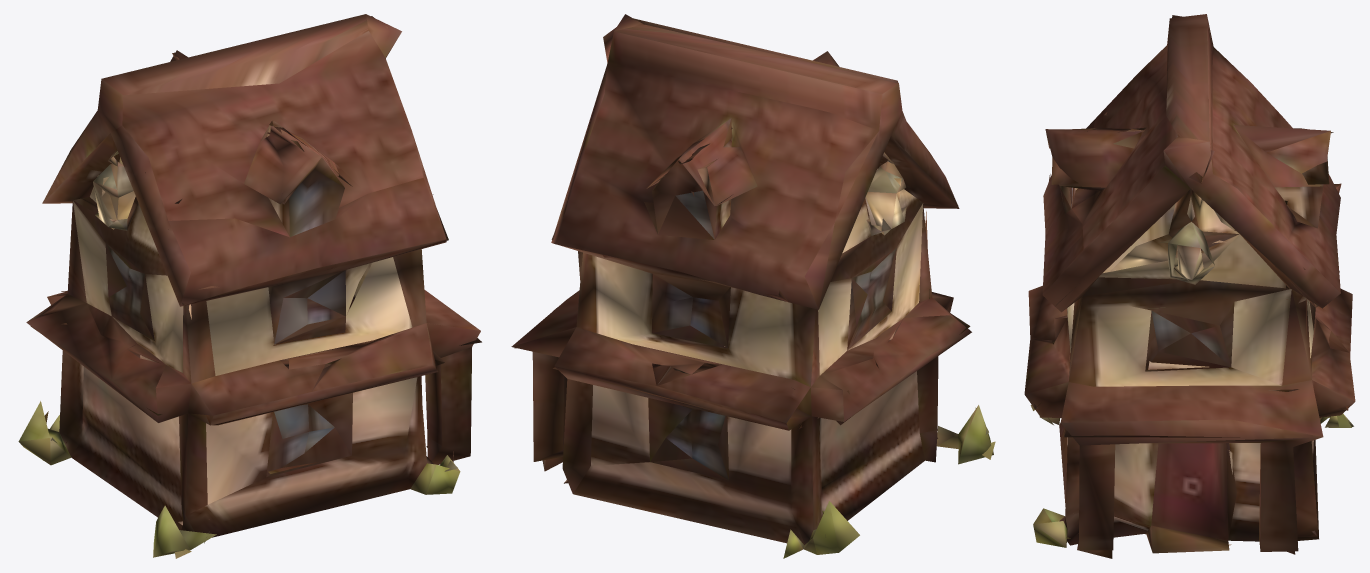
File: lg-village-inn.glb
The picture shows the model from 3 angles, left to right: view 1: azimuth 30°, elevation 25°; view 2: azimuth 150°, elevation 25°; view 3: azimuth 270°, elevation 25°; orthographic projection. The views are drawn at different scales.
Parts seen in each view (by area): view 1: geometry_0; view 2: geometry_0; view 3: geometry_0.
Part boxes in pixels (x1=…): geometry_0: x1=18, y1=14, x2=481, y2=558; geometry_0: x1=511, y1=14, x2=995, y2=558; geometry_0: x1=1024, y1=14, x2=1355, y2=558.
Size of the model in its own units: 0.8572 by 1 by 0.7379.
1 material, 1 textured.
